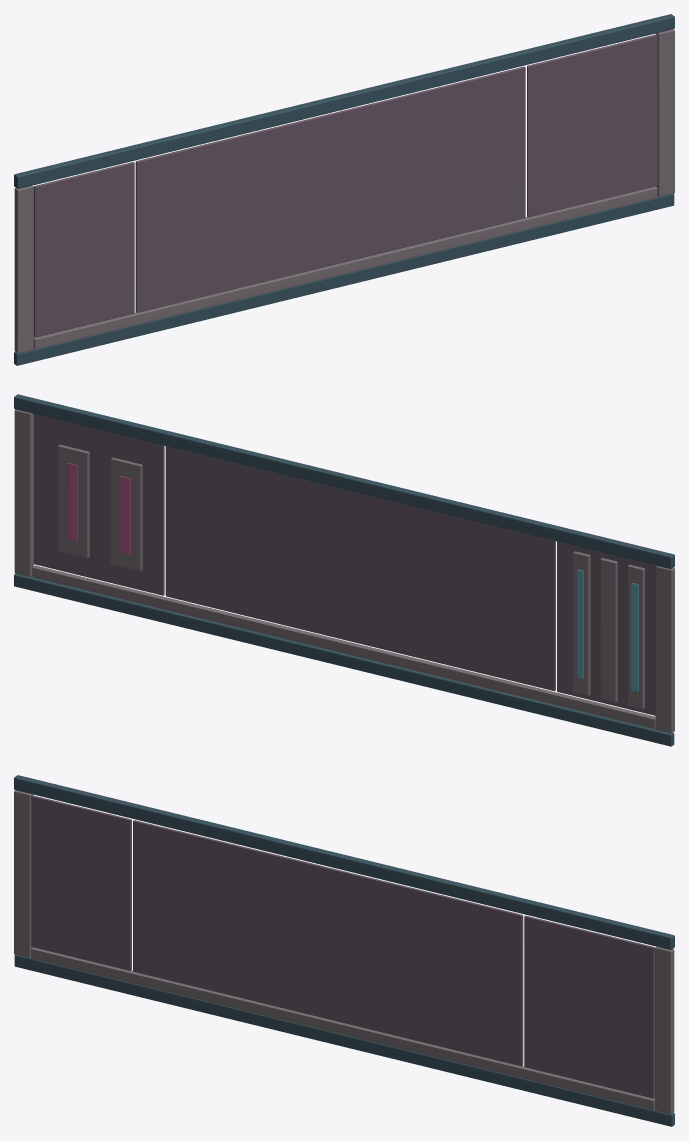
File: d06_southern_shopping_parade_03.glb
The picture shows the model from 3 angles, top to bottom: view 1: azimuth 30°, elevation 25°; view 2: azimuth 150°, elevation 25°; view 3: azimuth 330°, elevation 25°; orthographic projection.
Parts seen in each view (by area): view 1: D06SouthernShoppingParade03_Mesh; view 2: D06SouthernShoppingParade03_Mesh; view 3: D06SouthernShoppingParade03_Mesh.
Part boxes in pixels (x1,y1,x2,y2): D06SouthernShoppingParade03_Mesh: [14, 14, 674, 365]; D06SouthernShoppingParade03_Mesh: [14, 394, 674, 746]; D06SouthernShoppingParade03_Mesh: [14, 775, 674, 1126].
Size of the model in its own units: 17.4 by 4.8 by 0.18.
